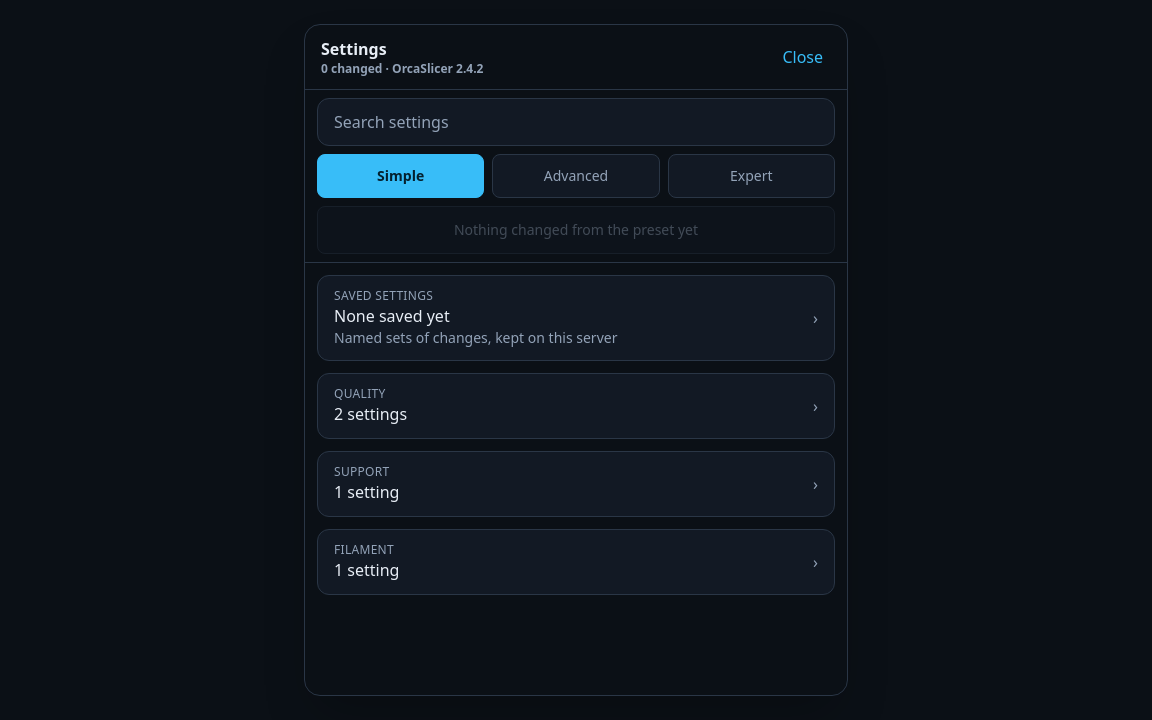
Test case: the settings sheet › shows the preset value, and says which preset it came from
This screenshot has width=1152, height=720.
Click the button with test id "settings-group-Quality" at x=360, y=394, box [317,373,835,439]
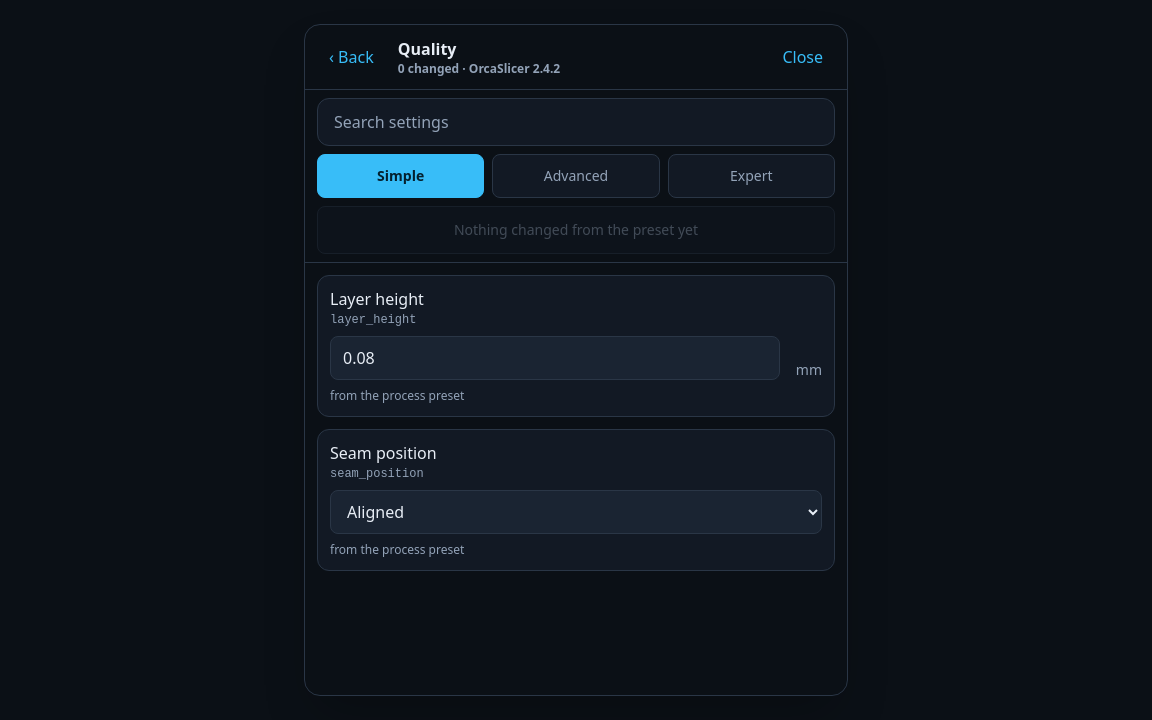
Now the field with test id "field-layer_height" holds "0.08", box [330,336,780,380]
Now the element with test id "setting-layer_height" shows "process preset", box [330,387,464,404]
